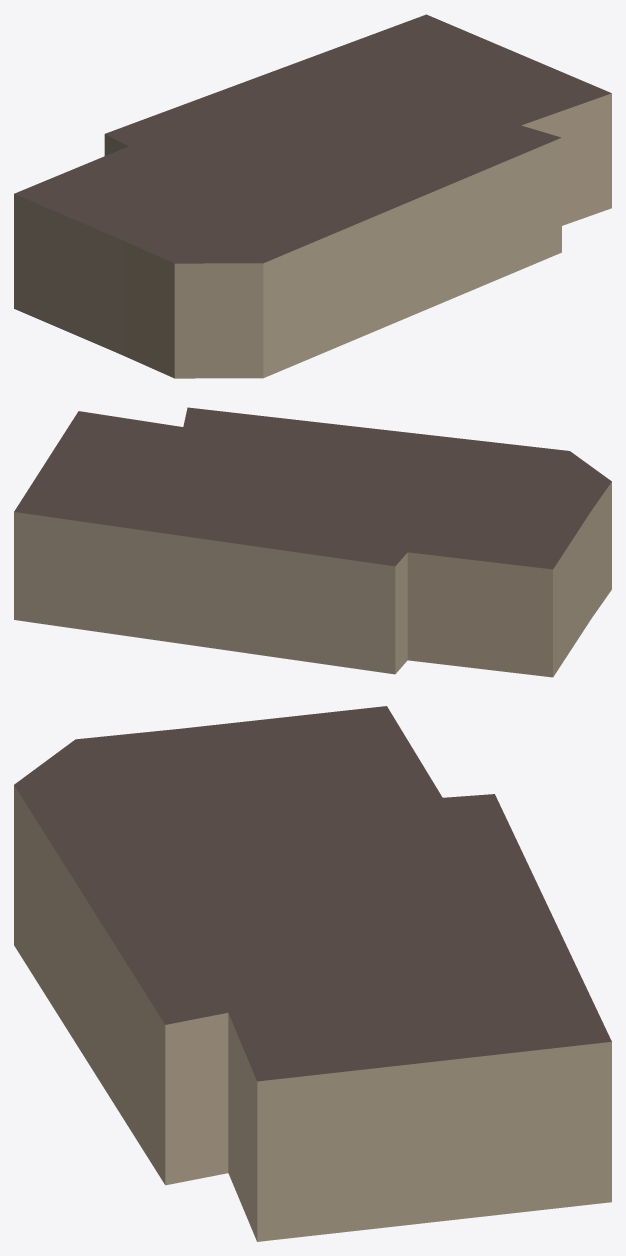
3 renders of one model, top to bottom at view 1: azimuth 30°, elevation 25°; view 2: azimuth 150°, elevation 25°; view 3: azimuth 270°, elevation 25°, orthographic. The views are drawn at different scales.
Parts seen in each view (by area): view 1: HP-w1512911274; view 2: HP-w1512911274; view 3: HP-w1512911274.
Boxes of the visible parts, x1,y1,x2,y2 form: HP-w1512911274: (14,14,611,378); HP-w1512911274: (14,407,611,677); HP-w1512911274: (14,706,611,1241).
Size of the model in its own units: 45.17 by 9 by 30.4.
